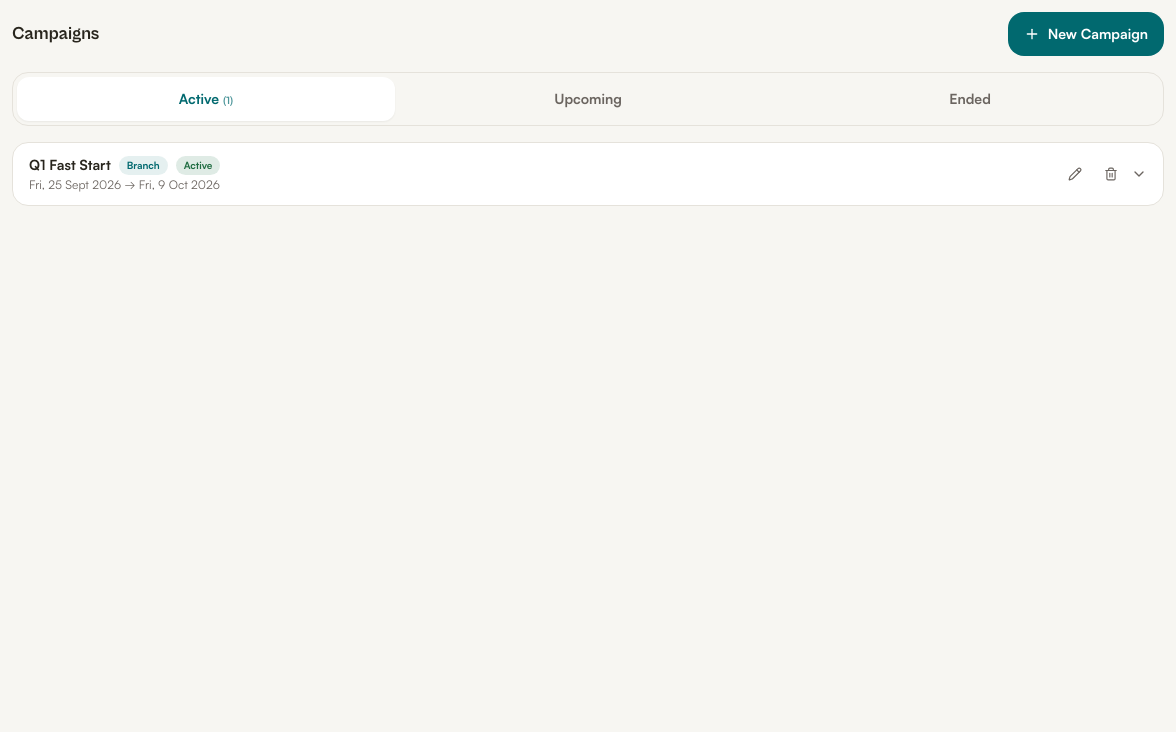
Test: CampaignPanel — 2.9 tiered standings (display-only) › a qualify campaign expands into the v2 standings block (ladder + live standings), not the legacy progress table
The width and height of the screenshot is (1176, 732).
Click the text "Q1 Fast Start". click: (70, 165)
box: [29, 155, 111, 175]
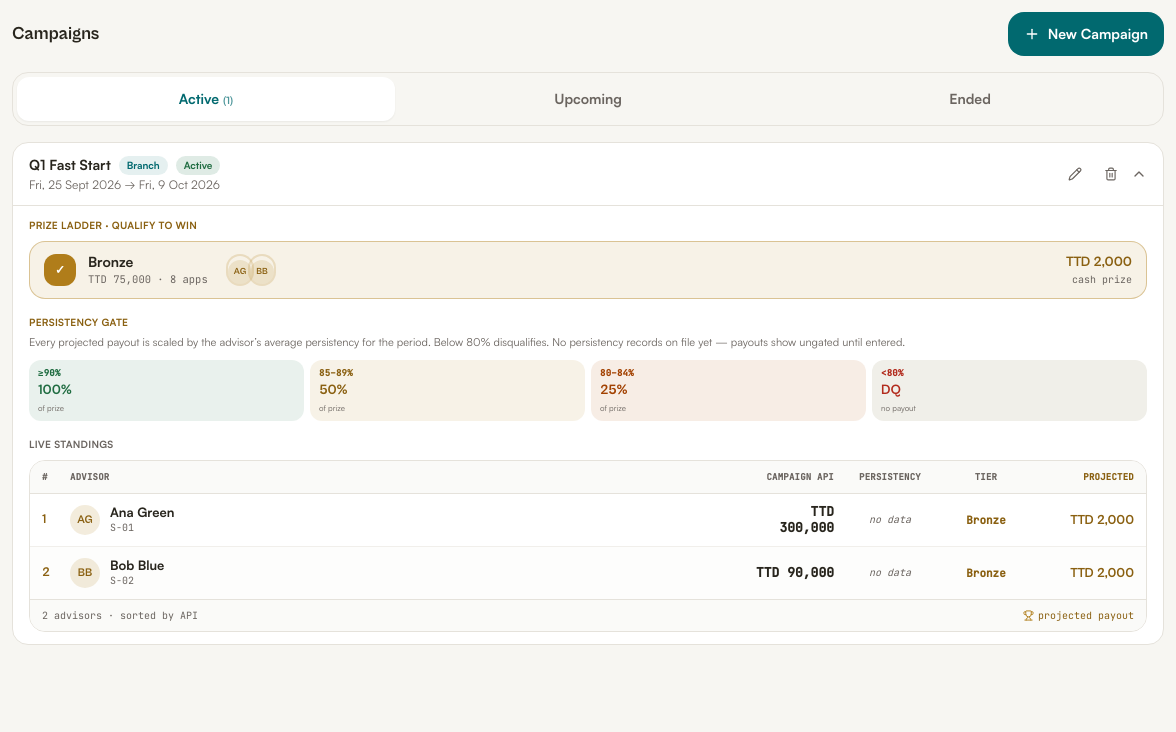
Result: the text "Live standings" is shown at [29, 438, 114, 450]
Result: the text "Prize ladder · qualify to win" is shown at [29, 219, 197, 231]
Result: the text "Bronze" below "Prize ladder · qualify to win" is shown at [88, 253, 133, 270]
